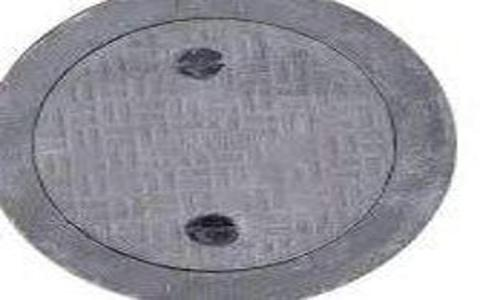proper manhole: (3, 1, 462, 299)
